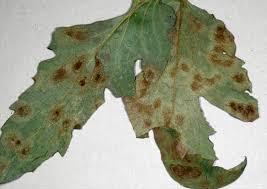leaf_spot: (3, 10, 266, 189)
